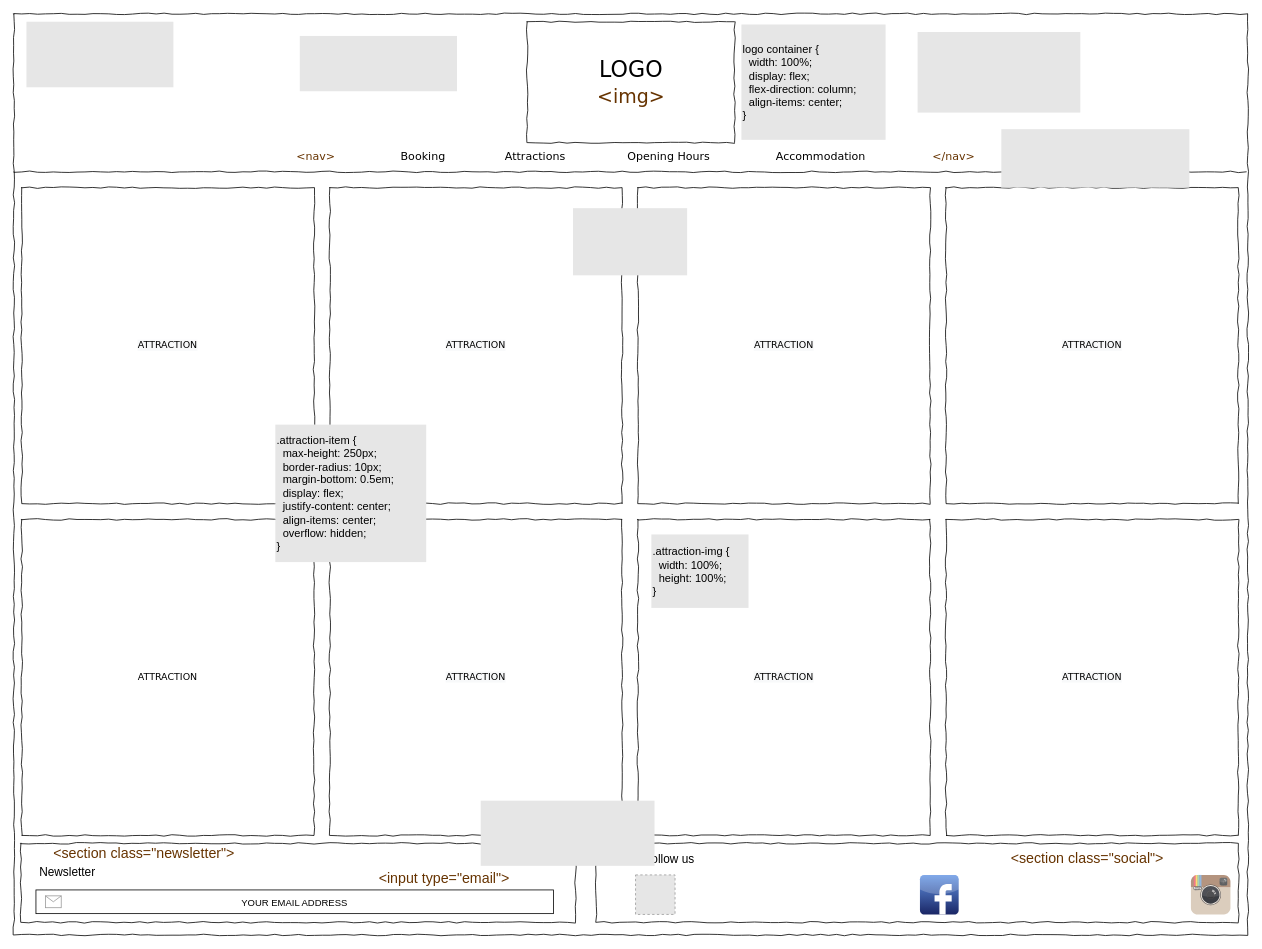
Some shapes in this 1262 by 949 pixel diagram are drawn without their labels. Grey dashed boxes stand in for pictures. The shapes that lost their labels are listed below. From the top down, each one's centre as x and y in pixels, then its label:
the point at 99,54: global styles { padding: 0; margin: 0; box-sizing: border-box; }
the point at 378,63: header { width: 100%; padding: 15px 0; }
the point at 998,72: nav { width: 100%; display: flex; justify-content: space-around; }
the point at 1095,158: nav a { padding: 7px 13px; border-radius: 3px; }
the point at 630,241: .attraction { margin: 16px; display: grid; }
the point at 567,832: footer{ display: flex; justify-content: space-between; }
